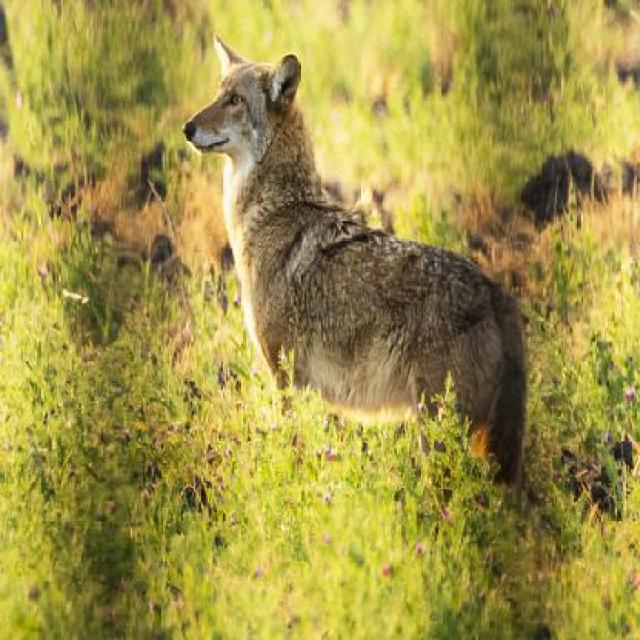Coyote: (182, 32, 528, 486)
